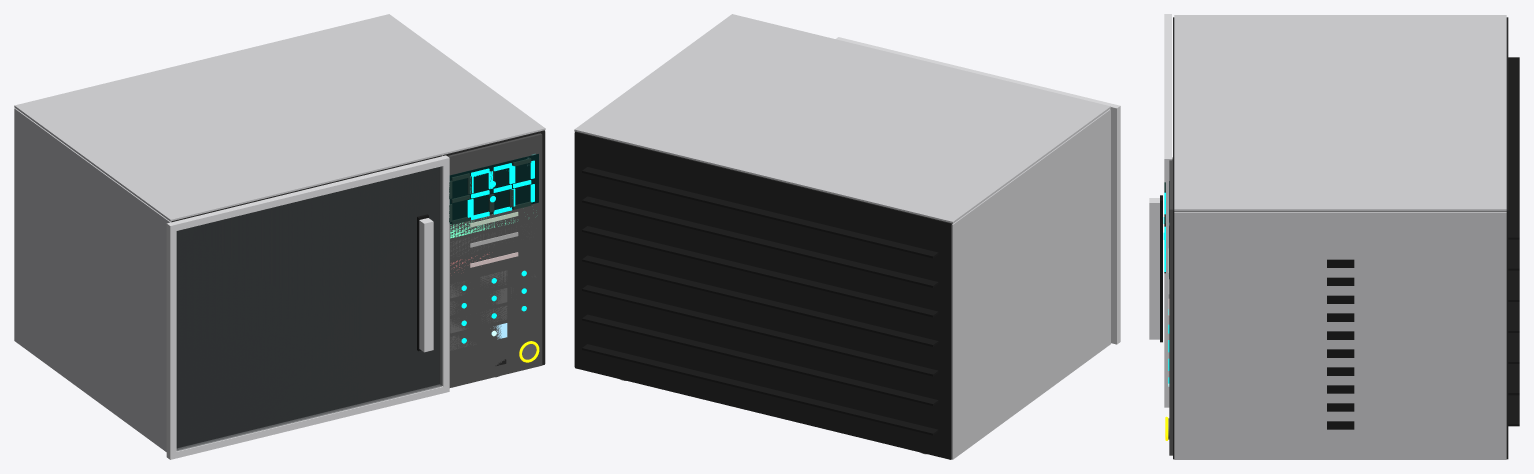
File: Microondas.glb
The picture shows the model from 3 angles, left to right: view 1: azimuth 30°, elevation 25°; view 2: azimuth 150°, elevation 25°; view 3: azimuth 270°, elevation 25°; orthographic projection. The views are drawn at different scales.
Visible parts, largest first — view 1: Techo, Malla_Microperf, Cuerpo_Principal, Cristal_Puerta, Lat_Izq, Panel_BG, Marco_Sup, Display_BG, Marco_Inf, Marco_Izq, Marco_Der, Manija_Barra (+1 smaller); view 2: Cuerpo_Principal, Techo, Lat_Izq, VentT_4, VentT_6, VentT_0, VentT_1, VentT_2, VentT_3, VentT_5, Marco_Izq, Marco_Sup (+1 smaller); view 3: Lat_Der, Techo, Cuerpo_Principal, VentT_6, Manija_Barra, Panel_BG, Marco_Der, Marco_Sup, Base_Placa, Manija_Sombra, VentT_0, VentT_1 (+2 smaller).
Boxes of the visible parts, x1,y1,x2,y2 form: Techo: (14,14,545,221); Malla_Microperf: (176,166,441,450); Cuerpo_Principal: (171,130,544,447); Cristal_Puerta: (177,167,441,450); Lat_Izq: (14,108,170,449); Panel_BG: (447,133,542,387); Marco_Sup: (166,157,444,232); Display_BG: (449,154,538,224); Marco_Inf: (166,384,449,459); Marco_Izq: (166,222,176,459); Marco_Der: (440,155,449,392); Manija_Barra: (419,218,433,352); Cuerpo_Principal: (575,131,952,459); Techo: (574,14,1110,223); Lat_Izq: (951,109,1110,457); VentT_4: (582,226,938,317); VentT_6: (582,167,938,258); VentT_0: (582,344,938,435); VentT_1: (582,314,938,405); VentT_2: (582,285,938,376); VentT_3: (582,255,938,346); VentT_5: (582,196,938,287); Marco_Izq: (1111,104,1120,343); Marco_Sup: (842,38,1120,114); Lat_Der: (1174,212,1506,458); Techo: (1174,15,1506,211); Cuerpo_Principal: (1173,17,1508,459); VentT_6: (1508,57,1519,239); Manija_Barra: (1149,198,1159,339); Panel_BG: (1169,159,1172,455); Marco_Der: (1164,155,1171,407); Marco_Sup: (1164,17,1171,165); Base_Placa: (1174,454,1506,459); Manija_Sombra: (1160,195,1162,342); VentT_0: (1508,395,1519,426); VentT_1: (1508,364,1519,395).
Size of the model in its own units: 0.6125 by 0.3795 by 0.486.
